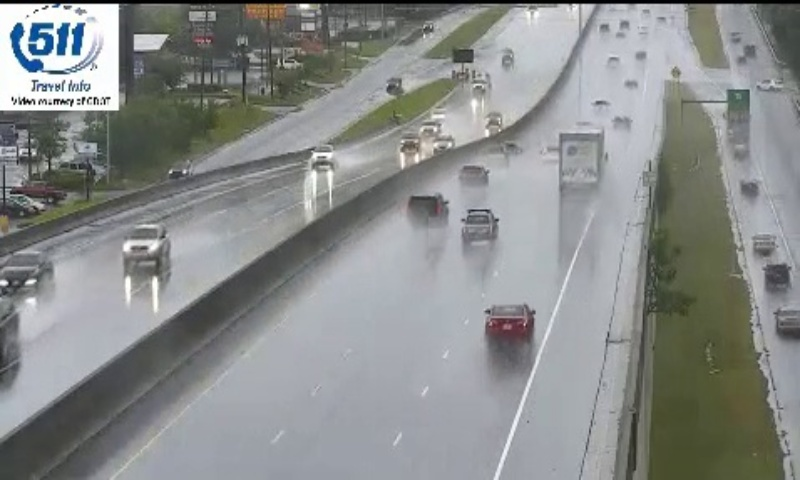car: (485, 304, 533, 339), (405, 194, 448, 226), (461, 209, 497, 240)
small-truck: (558, 127, 605, 196)
